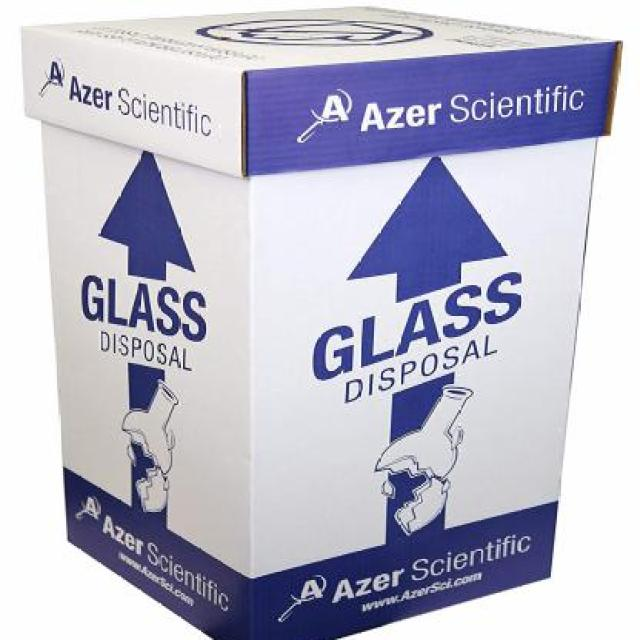box: (14, 8, 631, 640)
